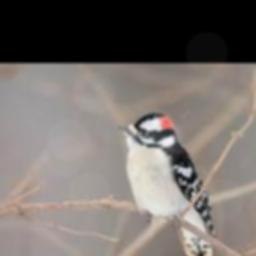Woodpecker: (117, 112, 215, 256)
